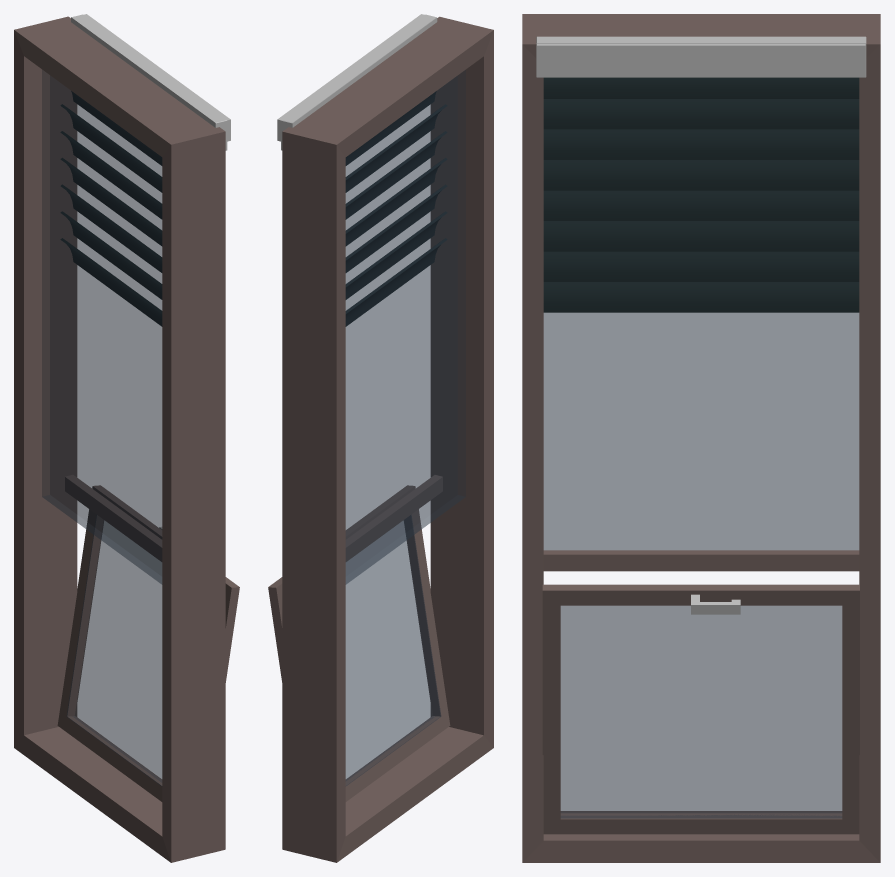
File: Windows002.fbx
3 renders of one model, left to right at view 1: azimuth 30°, elevation 25°; view 2: azimuth 150°, elevation 25°; view 3: azimuth 270°, elevation 25°, orthographic. The views are drawn at different scales.
Parts seen in each view (by area): view 1: Wall.006, Wall.001, Wall.005, Cube.001, Wall.015, Cube.076, Wall.002; view 2: Wall.006, Wall.001, Wall.005, Cube.001, Wall.015, Cube.076, Wall.002; view 3: Wall.001, Cube.001, Wall.005, Wall.006, Wall.015, Cube.076, Wall.002.
Boxes of the visible parts, box(x1,y1,x2,y2) form: Wall.006: box(14, 16, 225, 862); Wall.001: box(42, 70, 162, 584); Wall.005: box(66, 515, 162, 785); Cube.001: box(60, 91, 162, 326); Wall.015: box(57, 485, 239, 801); Cube.076: box(71, 14, 230, 150); Wall.002: box(65, 475, 162, 561); Wall.006: box(282, 16, 493, 862); Wall.001: box(345, 70, 465, 584); Wall.005: box(345, 515, 441, 785); Cube.001: box(345, 91, 447, 326); Wall.015: box(268, 485, 450, 801); Cube.076: box(277, 14, 437, 150); Wall.002: box(345, 475, 442, 561); Wall.001: box(543, 312, 859, 550); Cube.001: box(543, 77, 859, 312); Wall.005: box(560, 605, 842, 818); Wall.006: box(522, 14, 880, 862); Wall.015: box(542, 584, 859, 834); Cube.076: box(536, 36, 866, 77); Wall.002: box(543, 550, 859, 571).
Size of the model in its own units: 0.3961 by 3.01 by 1.19.
